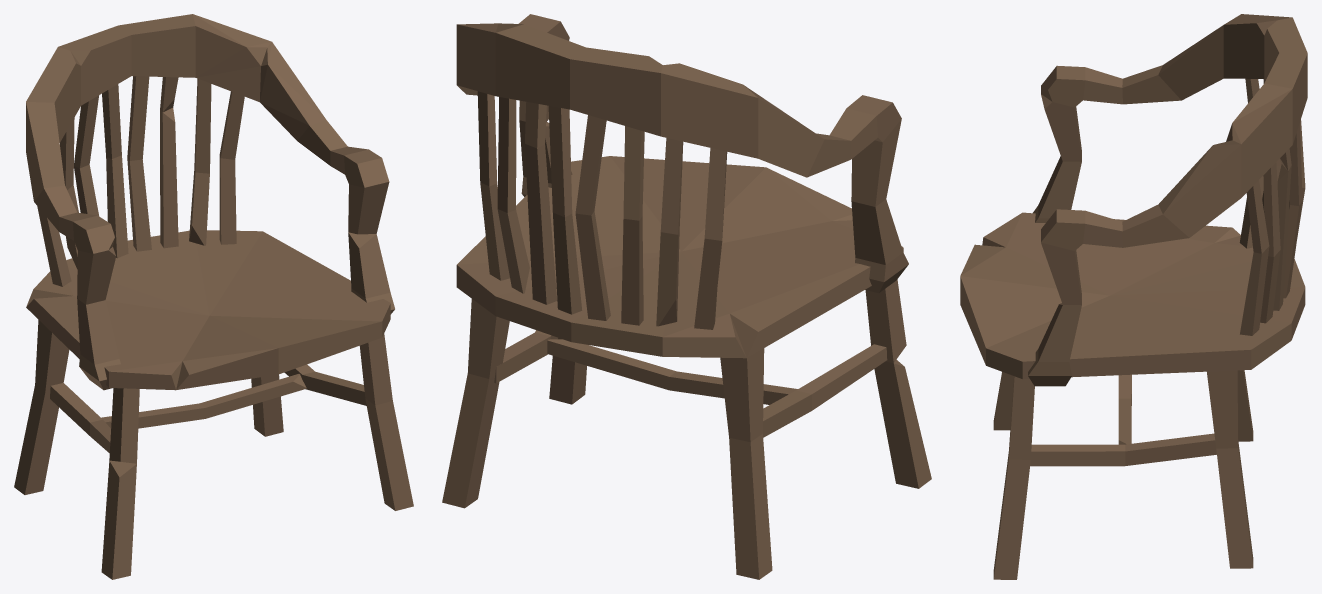
Rendered from Chair.fbx.
The picture shows the model from 3 angles, left to right: view 1: azimuth 30°, elevation 25°; view 2: azimuth 150°, elevation 25°; view 3: azimuth 270°, elevation 25°; orthographic projection. The views are drawn at different scales.
Parts seen in each view (by area): view 1: Chair; view 2: Chair; view 3: Chair.
Part boxes in pixels (x1=…): Chair: x1=14, y1=14, x2=413, y2=579; Chair: x1=442, y1=14, x2=931, y2=579; Chair: x1=960, y1=14, x2=1307, y2=579.
Bounding box in the file's own units: 1.81 × 2.37 × 1.67.
